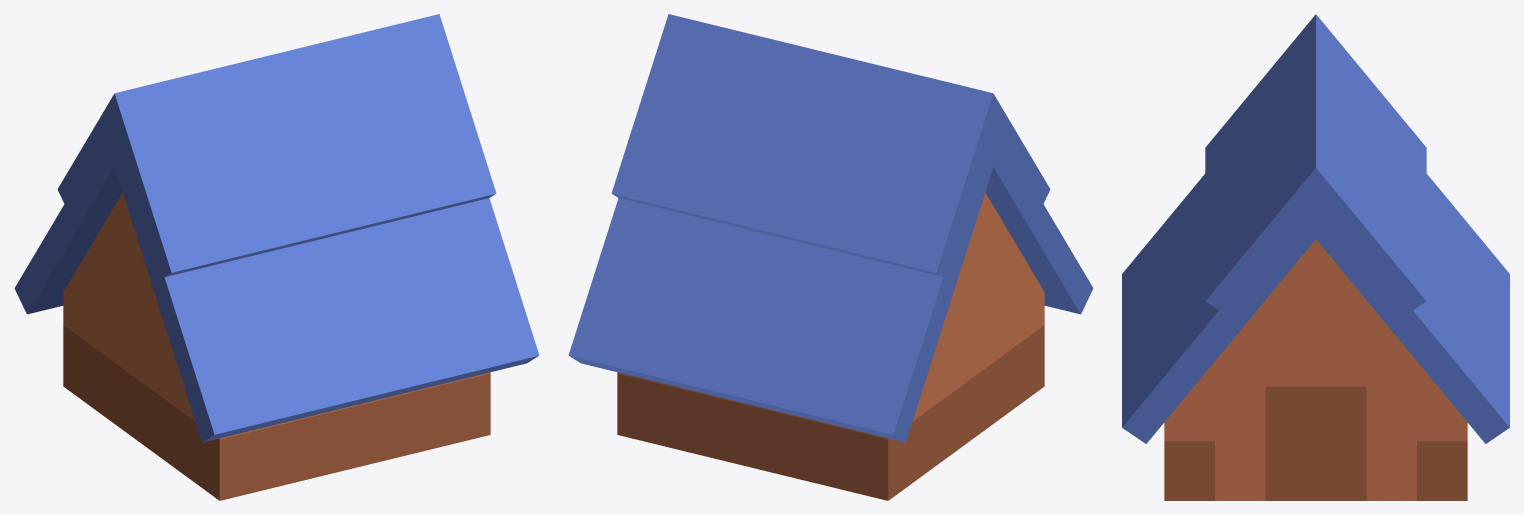
Rendered from unit_house.dae.
3 views of the same model, side by side, from view 1: azimuth 30°, elevation 25°; view 2: azimuth 150°, elevation 25°; view 3: azimuth 270°, elevation 25° (orthographic). The views are drawn at different scales.
Visible parts, largest first — view 1: unit_house; view 2: unit_house; view 3: unit_house.
Part boxes in pixels (x1=…): unit_house: x1=14, y1=14, x2=539, y2=500; unit_house: x1=568, y1=14, x2=1093, y2=500; unit_house: x1=1122, y1=14, x2=1509, y2=500.
Bounding box in the file's own units: 0.36 × 0.3781 × 0.384.
